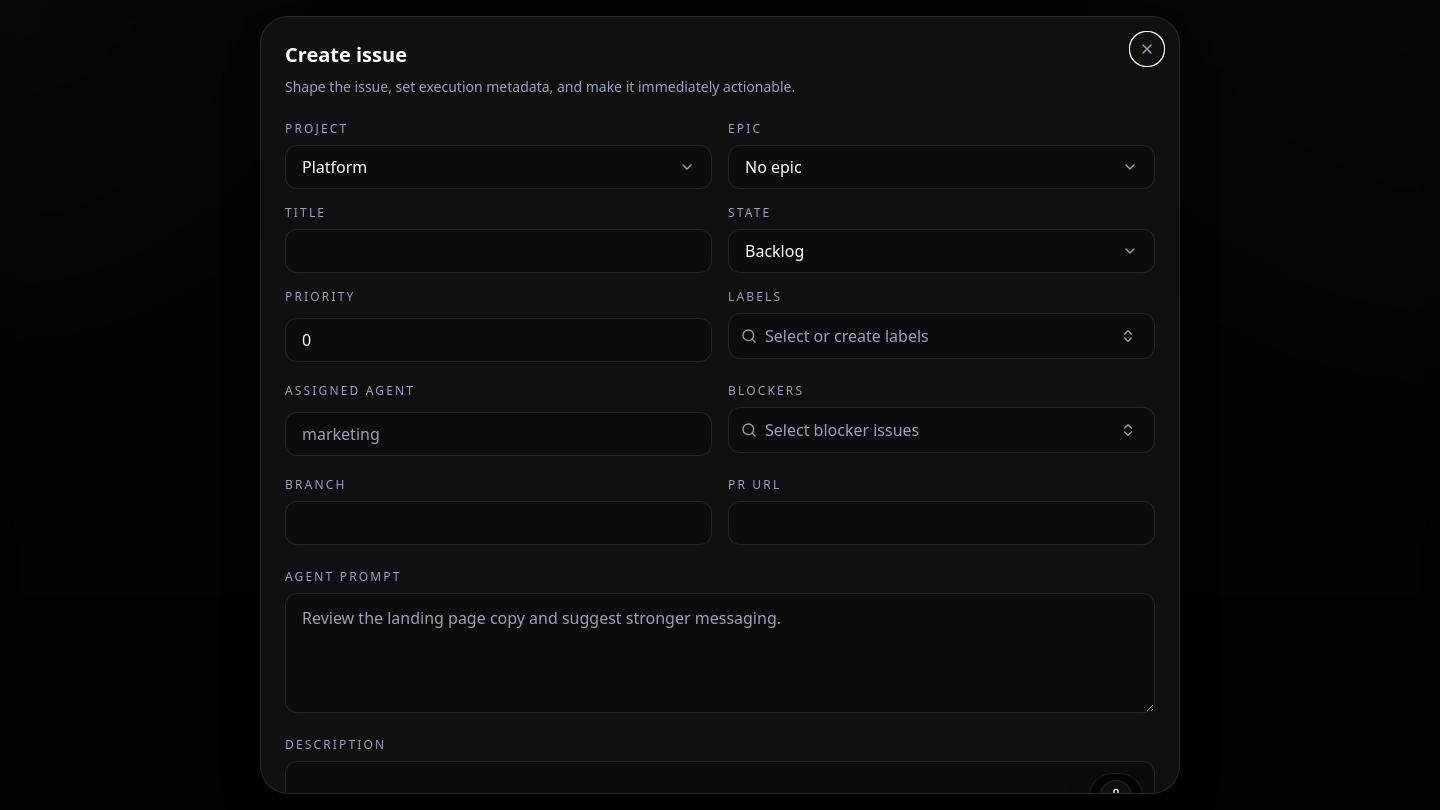
Test: IssueDialog › searches blockers on demand instead of loading every project issue on open
Type "ISS" into the dropdown labelled "Blockers" at (936, 430), box [765,416,1106,444]
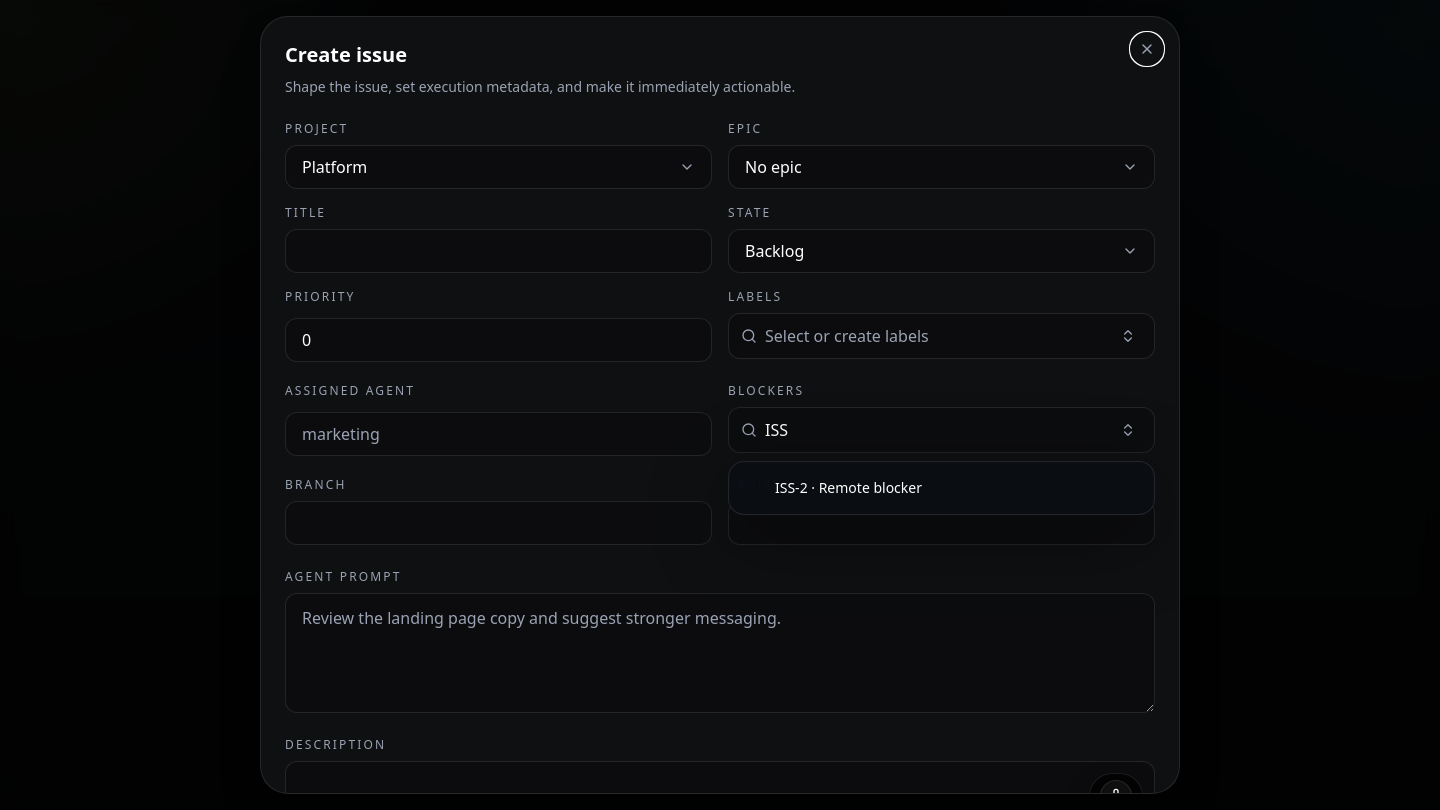
Result: the option "ISS-2 · Remote blocker" is shown at [775,478,922,497]
